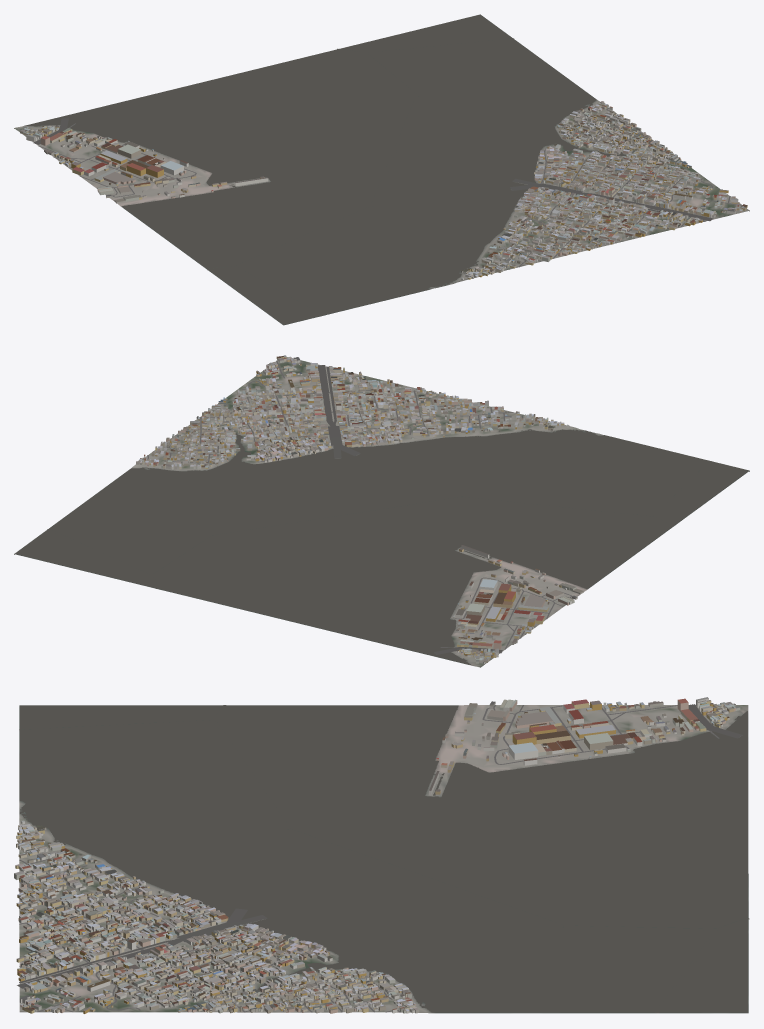
The picture shows the model from 3 angles, top to bottom: view 1: azimuth 30°, elevation 25°; view 2: azimuth 150°, elevation 25°; view 3: azimuth 270°, elevation 25°; orthographic projection. The views are drawn at different scales.
Visible parts, largest first — view 1: water, buildings, ground, roads; view 2: water, buildings, ground, roads; view 3: water, buildings, ground, roads.
Part boxes in pixels (box(x1,y1,x2,y2)): water: box(24, 14, 626, 324); buildings: box(20, 101, 747, 280); ground: box(14, 14, 749, 325); roads: box(33, 107, 740, 267); water: box(15, 427, 748, 664); buildings: box(136, 355, 583, 663); ground: box(14, 357, 749, 667); roads: box(147, 360, 573, 654); water: box(19, 705, 749, 1013); buildings: box(14, 697, 740, 1013); ground: box(19, 705, 748, 1013); roads: box(17, 704, 742, 1012).
Size of the model in its own units: 1421 by 22.1 by 1414.
